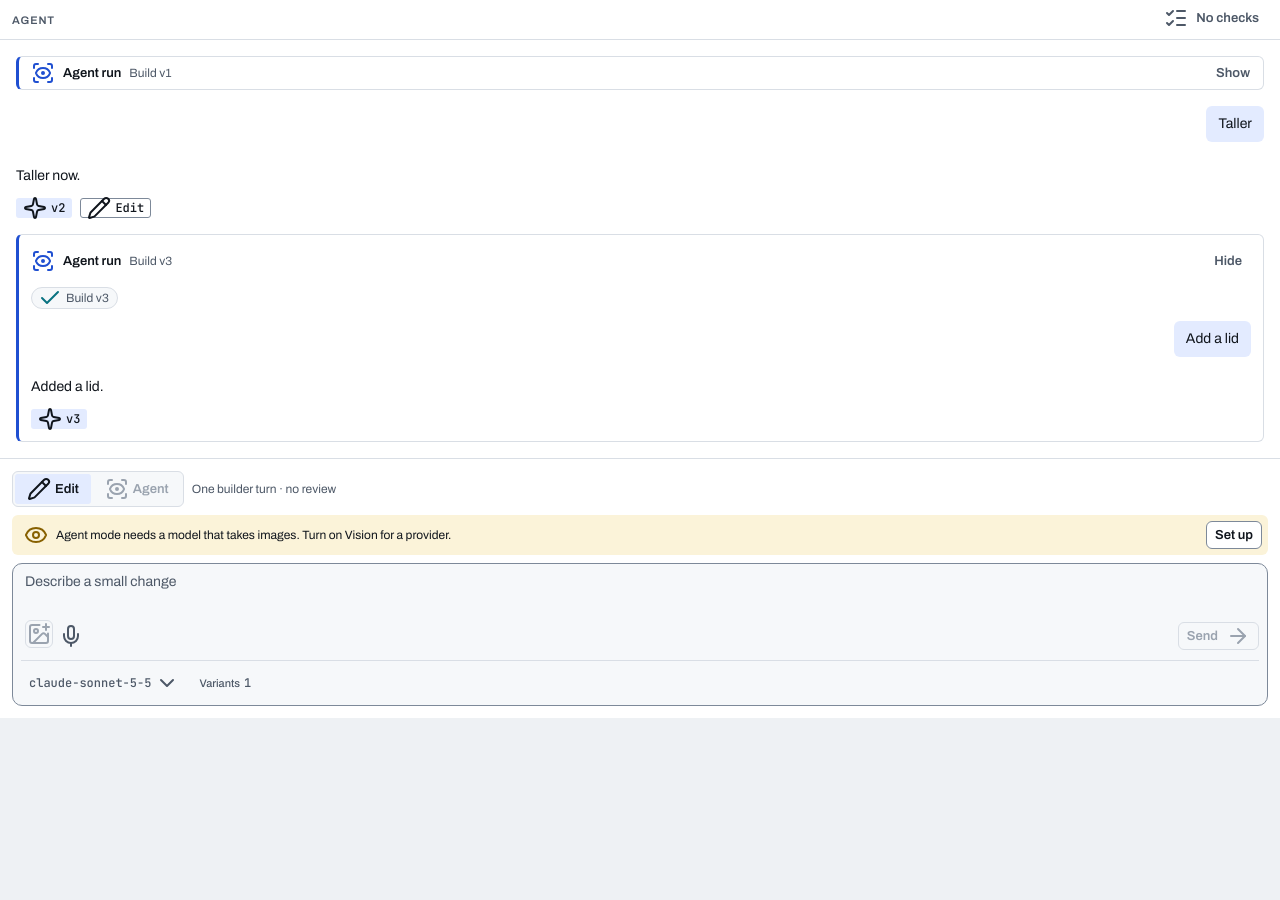
Test: agent: groups each run with its steps, and folds all but the latest
Expected: the number of elements "Agent run" is 2, top-left (16, 56), bottom-right (1264, 90); top-left (16, 234), bottom-right (1264, 442)
Expected: the element "Agent run" does not show "Made it.", top-left (16, 56), bottom-right (1264, 90)
Click the button "Show". click: [1233, 73]
box: top-left (1207, 59), bottom-right (1259, 87)
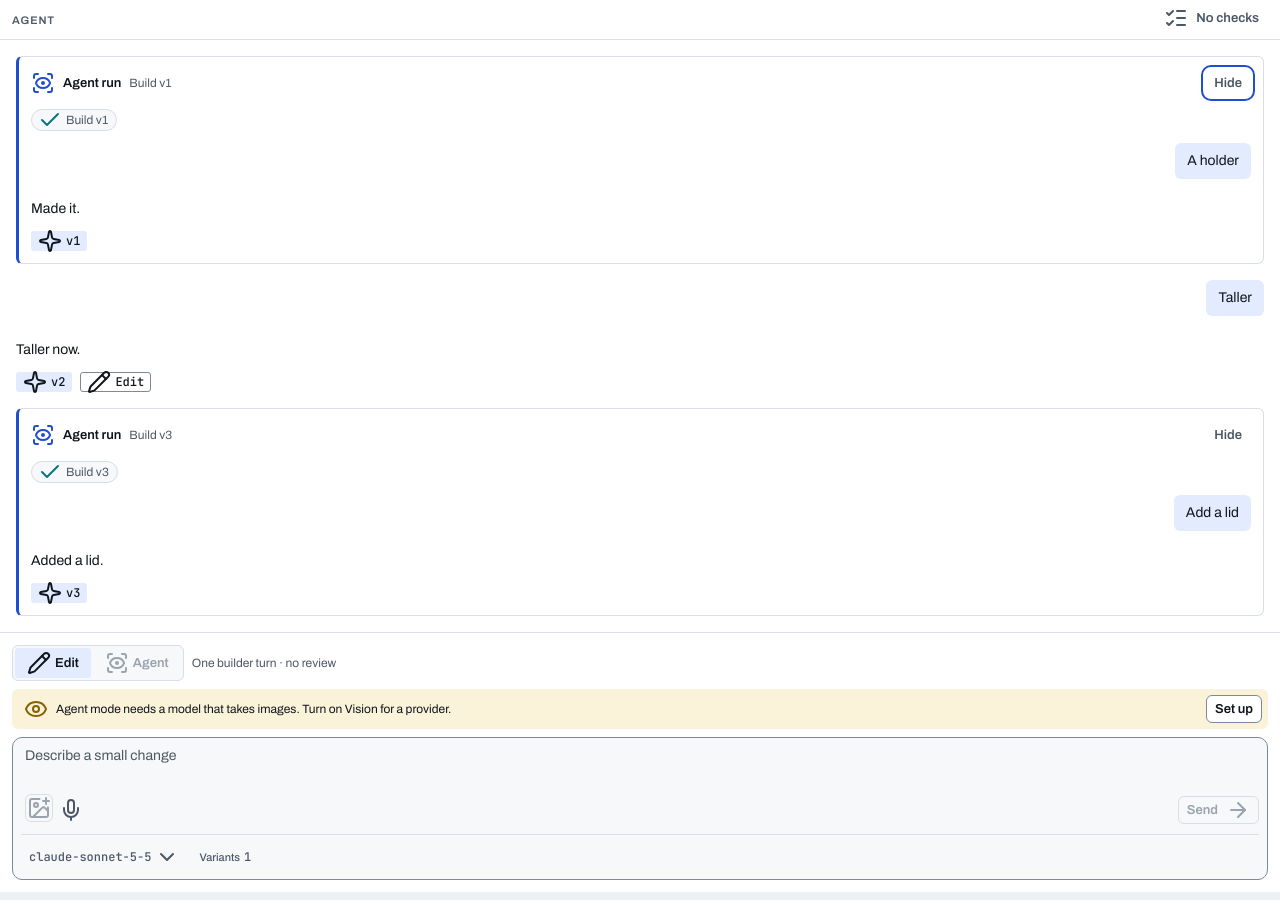
Result: the element "Agent run" shows "Made it." at top-left (31, 201), bottom-right (80, 216)
